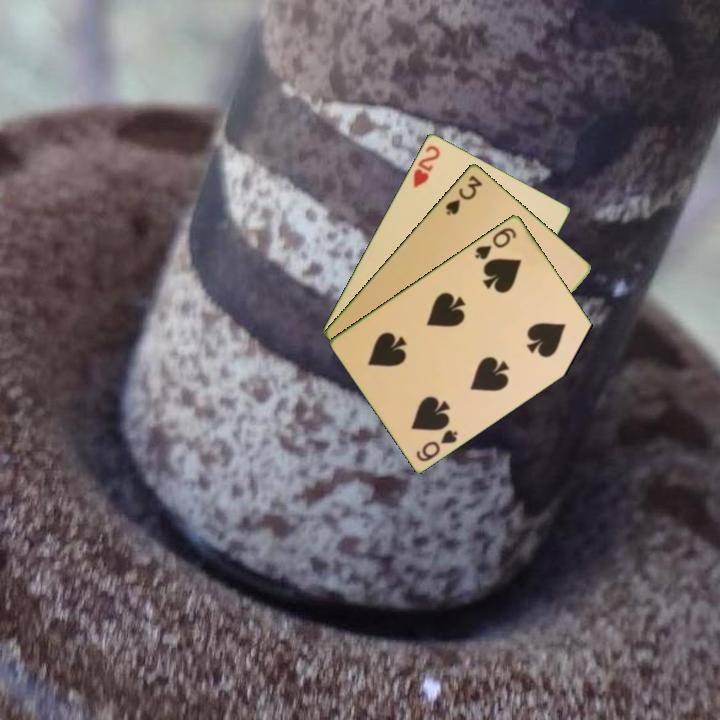2h: (409, 141, 443, 190)
3s: (442, 171, 485, 218)
6s: (471, 223, 520, 262), (412, 425, 461, 464)
